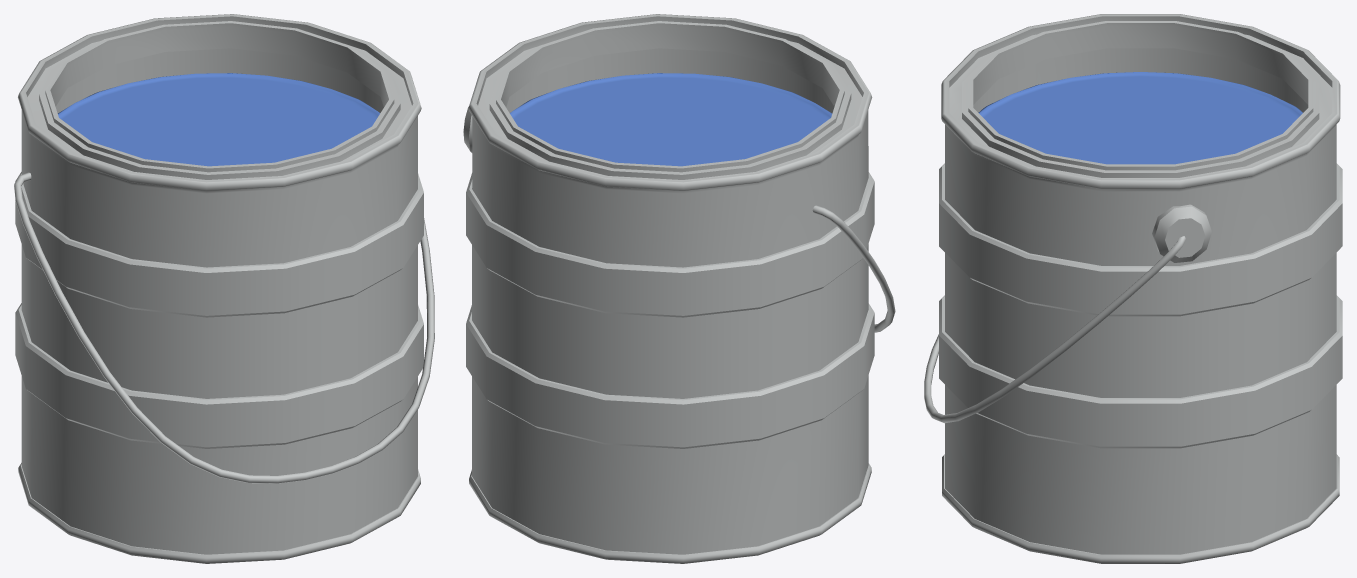
The model's file is paint_bucket3.fbx.
3 renders of one model, left to right at view 1: azimuth 30°, elevation 25°; view 2: azimuth 150°, elevation 25°; view 3: azimuth 270°, elevation 25°, orthographic.
Visible parts, largest first — view 1: Paint; view 2: Paint; view 3: Paint.
Boxes of the visible parts, x1,y1,x2,y2 form: Paint: (14, 14, 434, 563); Paint: (463, 14, 895, 563); Paint: (924, 14, 1342, 563).
Bounding box in the file's own units: 0.3026 × 0.2948 × 0.2885.
2 materials, 1 textured.
